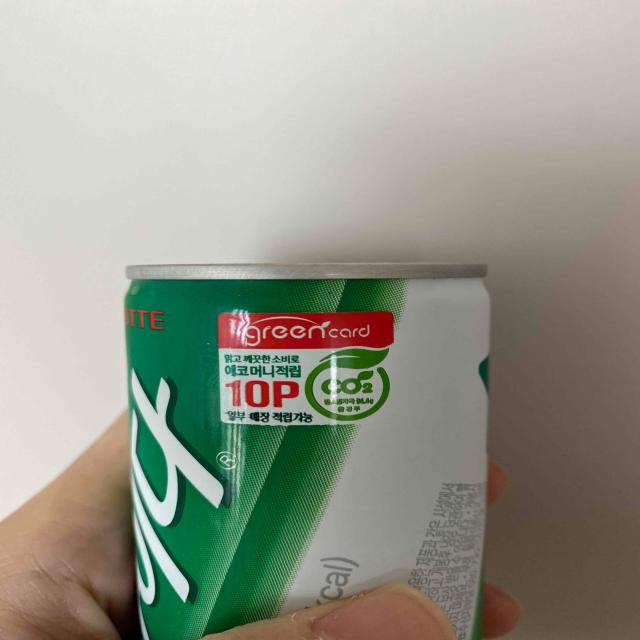can: (123, 263, 496, 638)
